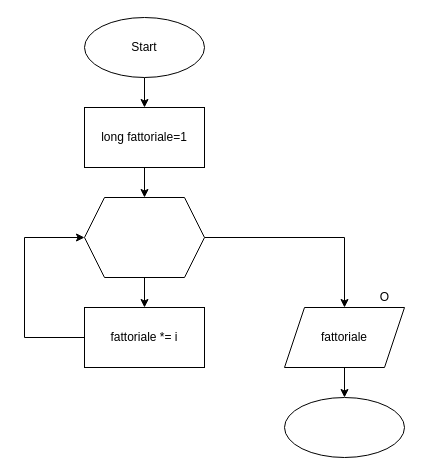
The diagram is 422 pixels wide and 475 high, and some of its shapes have lost their labels. The shapes that lost their labels are listed below. From the top down, each one's centre as x and y in pixels, then its label:
At pixel 144 237: "for(int i=1; i<=20; i++".
At pixel 344 427: "End".
